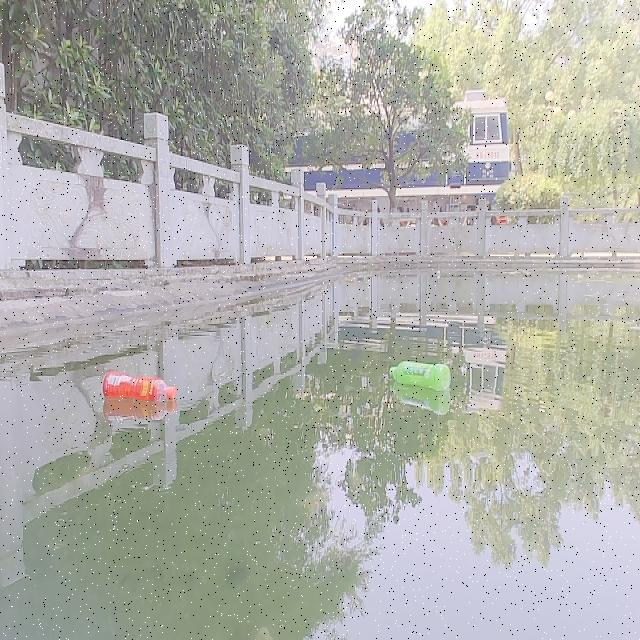bottle: (101, 370, 179, 402), (386, 359, 451, 389)
